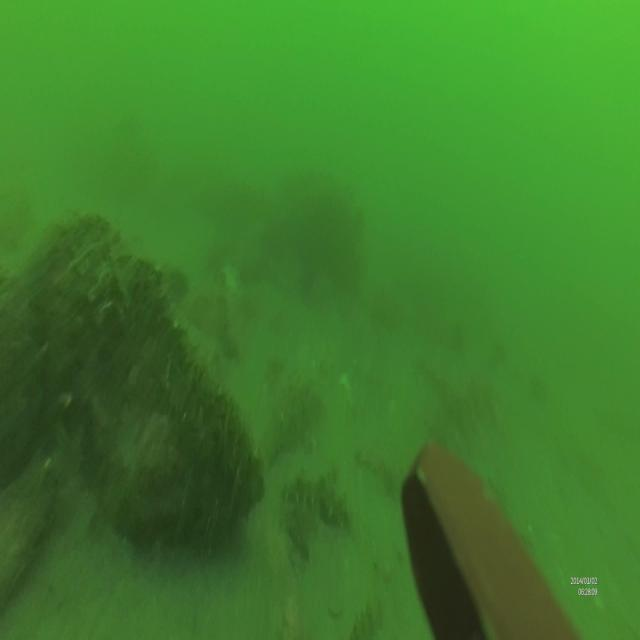holothurian: (279, 470, 353, 530), (348, 599, 386, 640)
